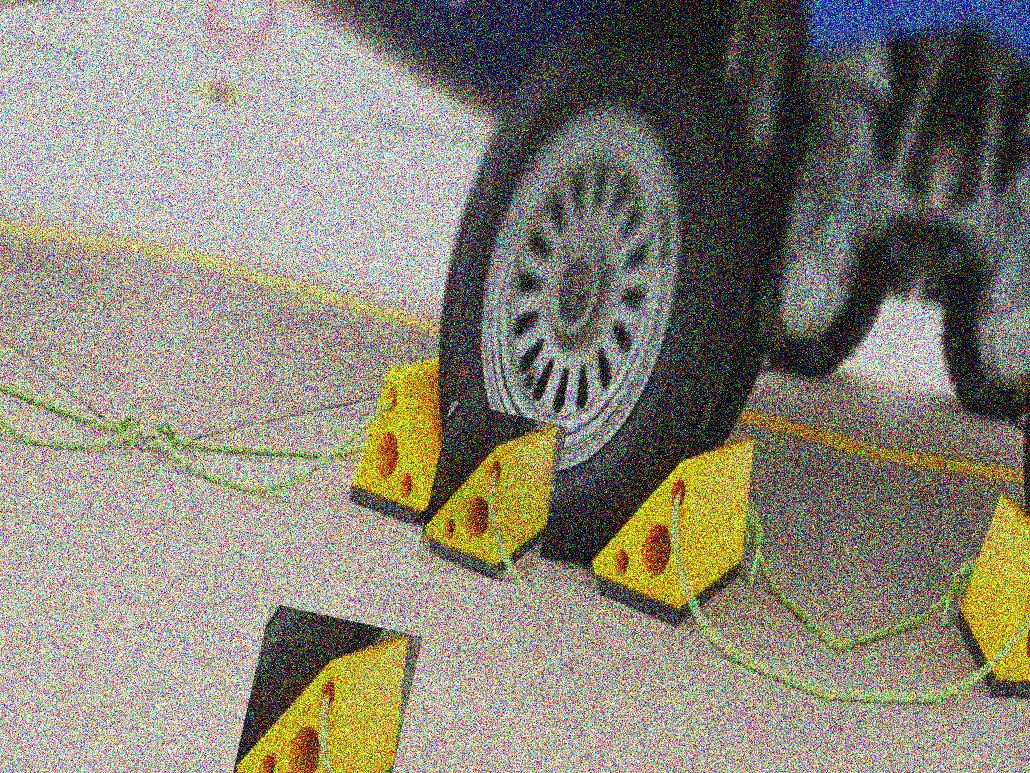chock: (580, 406, 769, 638), (224, 603, 423, 773), (415, 401, 568, 588), (344, 342, 491, 533), (944, 487, 1030, 719)
wheel: (393, 0, 795, 584)
